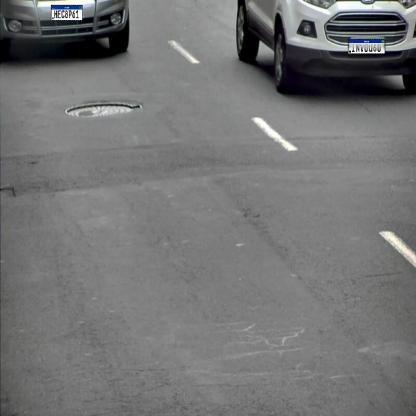PlacaM: (348, 39, 385, 54), (51, 5, 83, 21)
